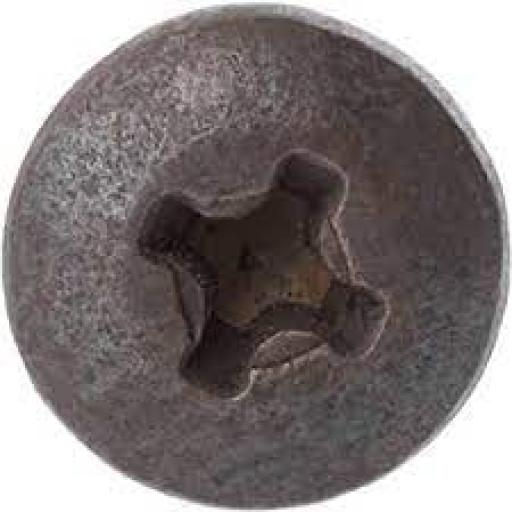Phillips: (6, 2, 503, 504)
